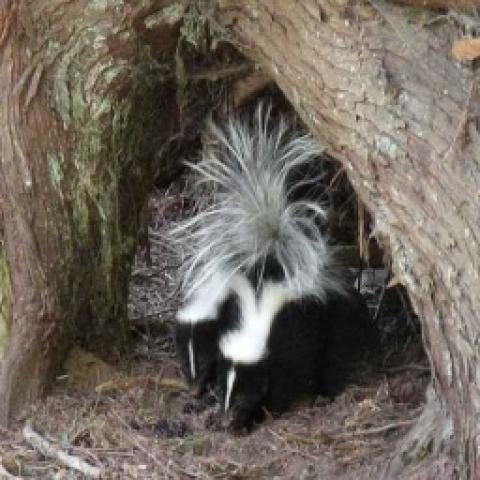small_animal: (156, 94, 384, 433)
